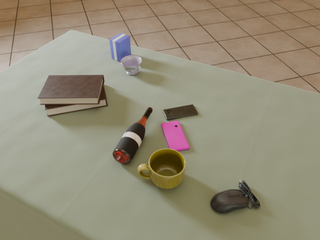book: (38, 75, 104, 105), (45, 86, 108, 116)
bottle: (113, 107, 152, 164)
box: (110, 33, 131, 61)
cup: (138, 148, 185, 189), (120, 55, 142, 75)
mouse: (211, 180, 260, 213)
phone: (161, 121, 189, 151), (163, 105, 198, 120)
